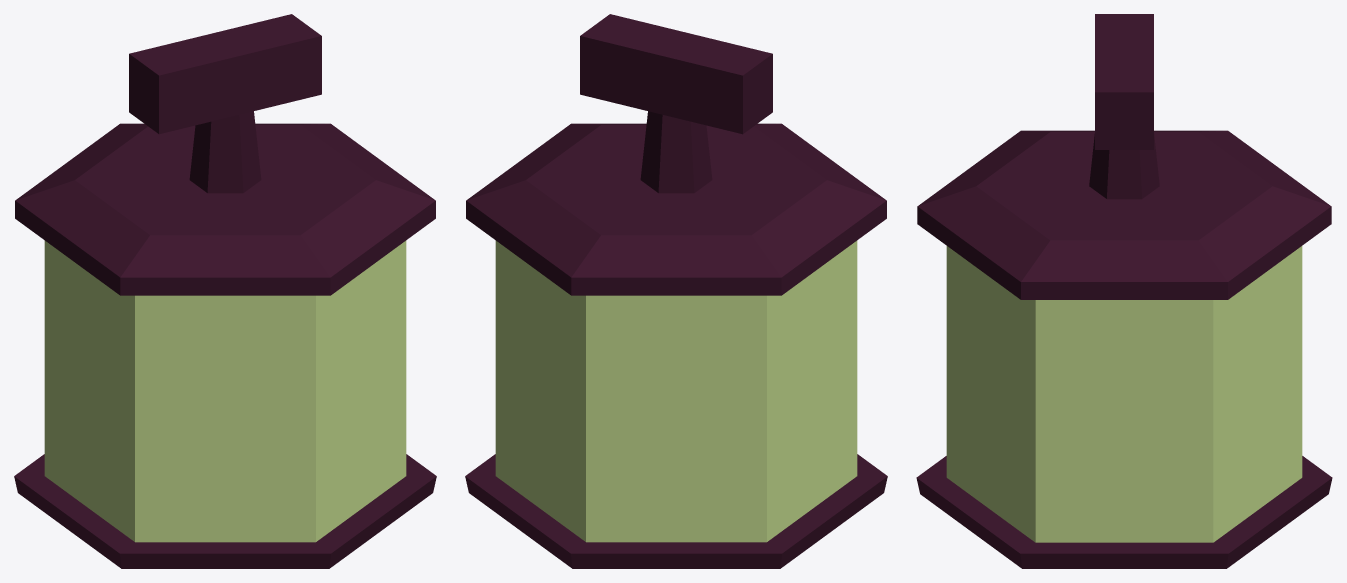
The model's file is lantern.glb.
3 renders of one model, left to right at view 1: azimuth 30°, elevation 25°; view 2: azimuth 150°, elevation 25°; view 3: azimuth 270°, elevation 25°, orthographic.
Visible parts, largest first — view 1: Circle; view 2: Circle; view 3: Circle.
Part boxes in pixels (x1,y1,x2,y2): Circle: (14,14,436,568); Circle: (465,14,887,568); Circle: (916,14,1332,568).
Bounding box in the file's own units: 1.76 × 2.38 × 2.04.
1 material, 1 textured.
